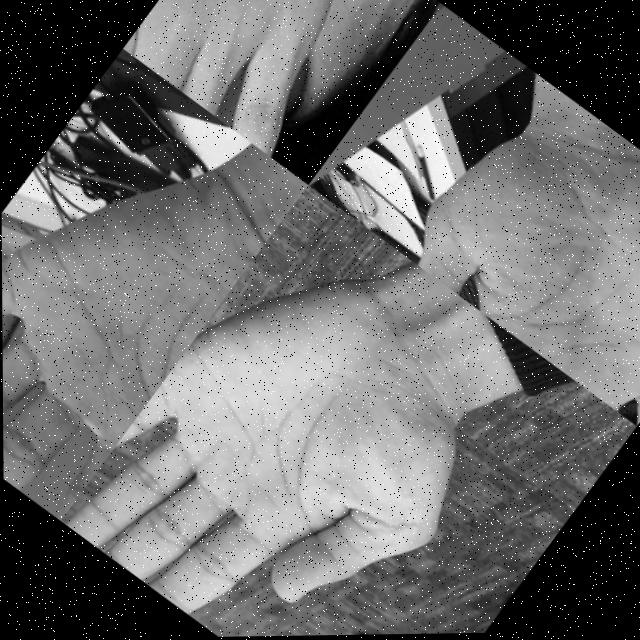hand: (57, 217, 534, 639), (1, 97, 272, 522), (394, 76, 640, 431), (122, 0, 425, 175)
